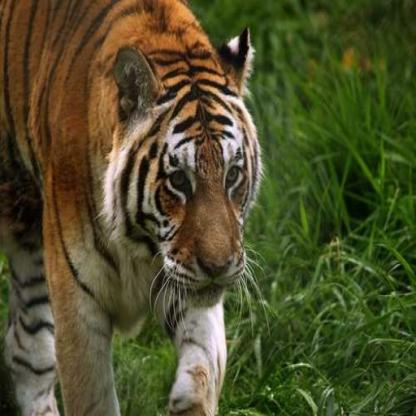Tiger: (0, 0, 298, 415)
